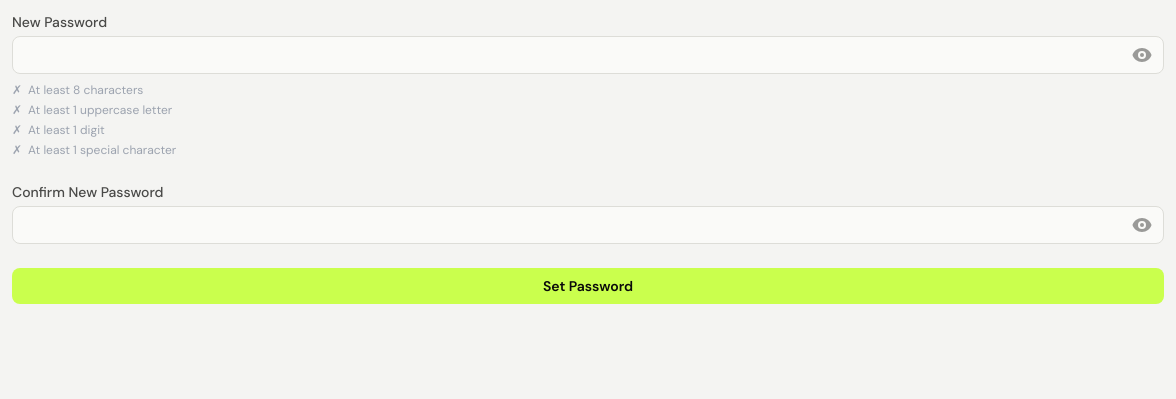
Test: SetupAccountForm › with a valid token › shows error when passwords do not match
Type "Password1!" into the password field labelled "New Password" at (588, 55), box [12,36,1164,74]
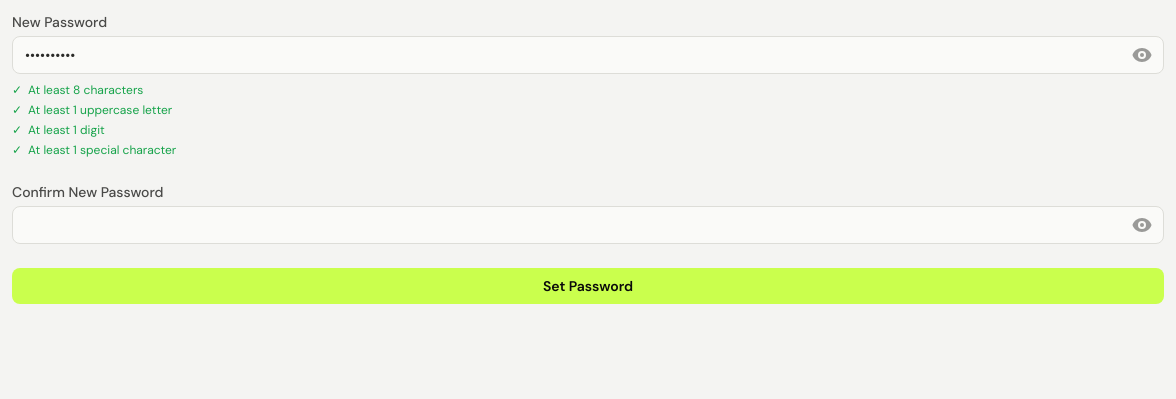
Type "Different1!" into the password field labelled "Confirm New Password" at (588, 225), box [12,206,1164,244]
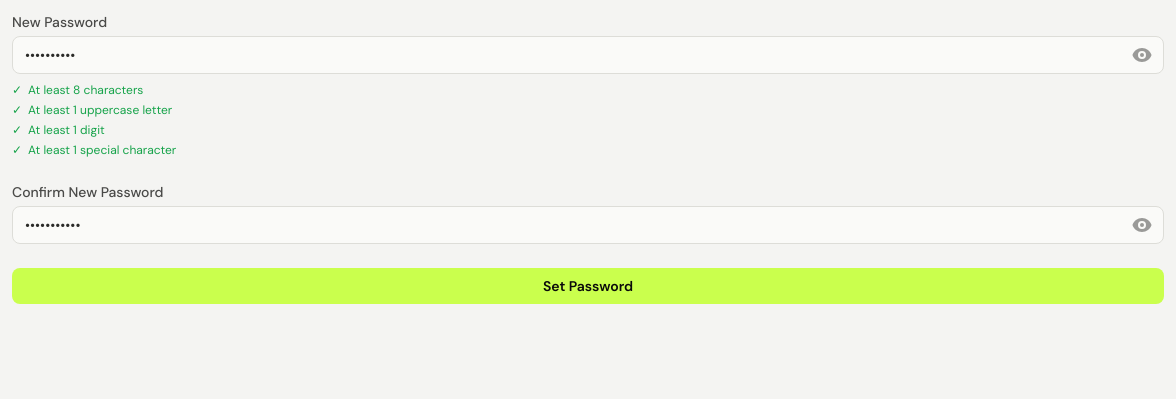
Click the button "Set Password" at (588, 286), box [12,268,1164,304]
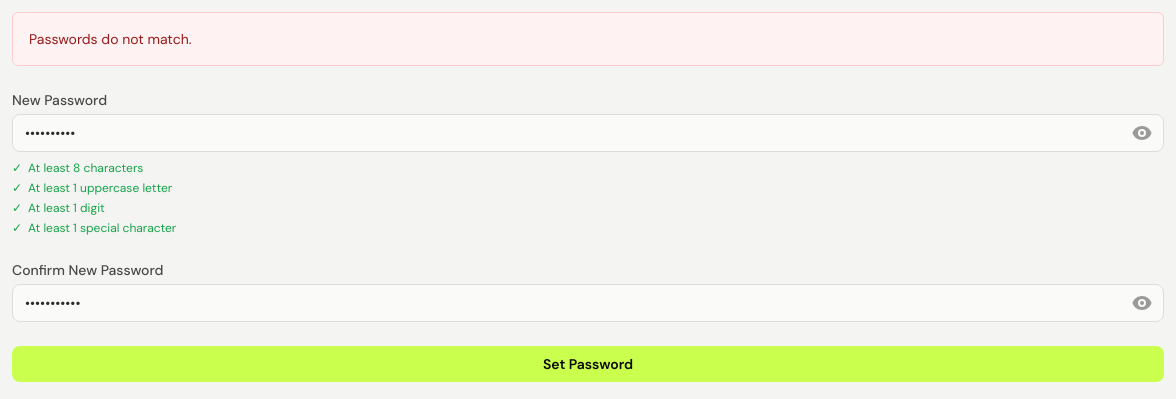
Expected: the text "Passwords do not match." is shown, [29,30,192,48]
